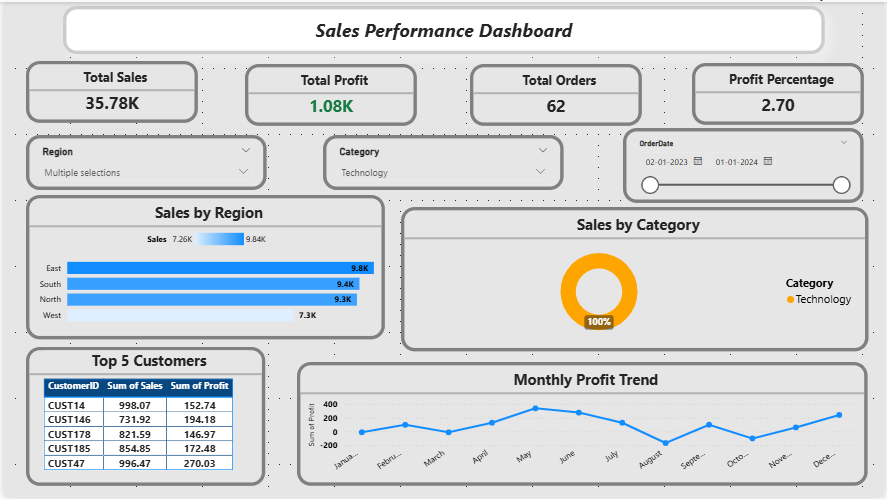

The dashboard page shown, as its layout file describes it:
{"tool":"powerbi","page":{"name":"Page 1","canvas":[1280,720],"ordinal":0},"visuals":[{"type":"textbox","box":[86,6,1108,70],"z":0},{"type":"card","title":"Total Sales","fields":{"Values":["Sheet.Total_Sales"]},"box":[32,86,250,90],"z":1000},{"type":"card","title":"Total Profit","fields":{"Values":["Sheet.Total_Profit"]},"box":[350,90.6,250,89.8],"z":2000},{"type":"card","title":"Total Orders","fields":{"Values":["Sheet.Total_Orders"]},"box":[678,90,250,90],"z":3000},{"type":"card","title":"Profit Percentage","fields":{"Values":["Sum(Sheet.Profit_Percentage)"]},"box":[1000,88.3,250,90],"z":4000},{"type":"barChart","title":"Sales by Region","fields":{"Y":["Sum(Sheet.Sales)"],"Category":["Sheet.Region"]},"box":[32,280,522,210],"z":5000},{"type":"donutChart","title":"Sales by Category","fields":{"Y":["Sum(Sheet.Sales)"],"Category":["Sheet.Category"]},"box":[577.1,298.6,680,210],"z":6000},{"type":"tableEx","title":"Top 5 Customers","fields":{"Values":["Sheet.CustomerID","Sum(Sheet.Sales)","Sum(Sheet.Profit)"]},"box":[32,502,348,202],"z":7000},{"type":"lineChart","title":"Monthly Profit Trend","fields":{"Y":["Sum(Sheet.Profit)"],"Category":["Sheet.OrderDate.Variation.Date Hierarchy.Month"]},"box":[426,524,830,180],"z":8000},{"type":"slicer","fields":{"Values":["Sheet.Region"]},"box":[32,194,350,80],"z":9000},{"type":"slicer","fields":{"Values":["Sheet.Category"]},"box":[464,194,350,80],"z":10000},{"type":"slicer","fields":{"Values":["Sheet.OrderDate"]},"box":[900,182.9,350,108.6],"z":11000}]}

Visuals, with their boxes in screenshot pixels (x1, y1, x2, y2), scaled from the page's 1280x720 canvas onto the 887x499 screenshot:
textbox: [left=60, top=4, right=827, bottom=53]
"Total Sales" card: [left=22, top=60, right=195, bottom=122]
"Total Profit" card: [left=243, top=63, right=416, bottom=125]
"Total Orders" card: [left=470, top=62, right=643, bottom=125]
"Profit Percentage" card: [left=693, top=61, right=866, bottom=124]
"Sales by Region" barChart: [left=22, top=194, right=384, bottom=340]
"Sales by Category" donutChart: [left=400, top=207, right=871, bottom=352]
"Top 5 Customers" tableEx: [left=22, top=348, right=263, bottom=488]
"Monthly Profit Trend" lineChart: [left=295, top=363, right=870, bottom=488]
slicer - Sheet.Region: [left=22, top=134, right=265, bottom=190]
slicer - Sheet.Category: [left=322, top=134, right=564, bottom=190]
slicer - Sheet.OrderDate: [left=624, top=127, right=866, bottom=202]
